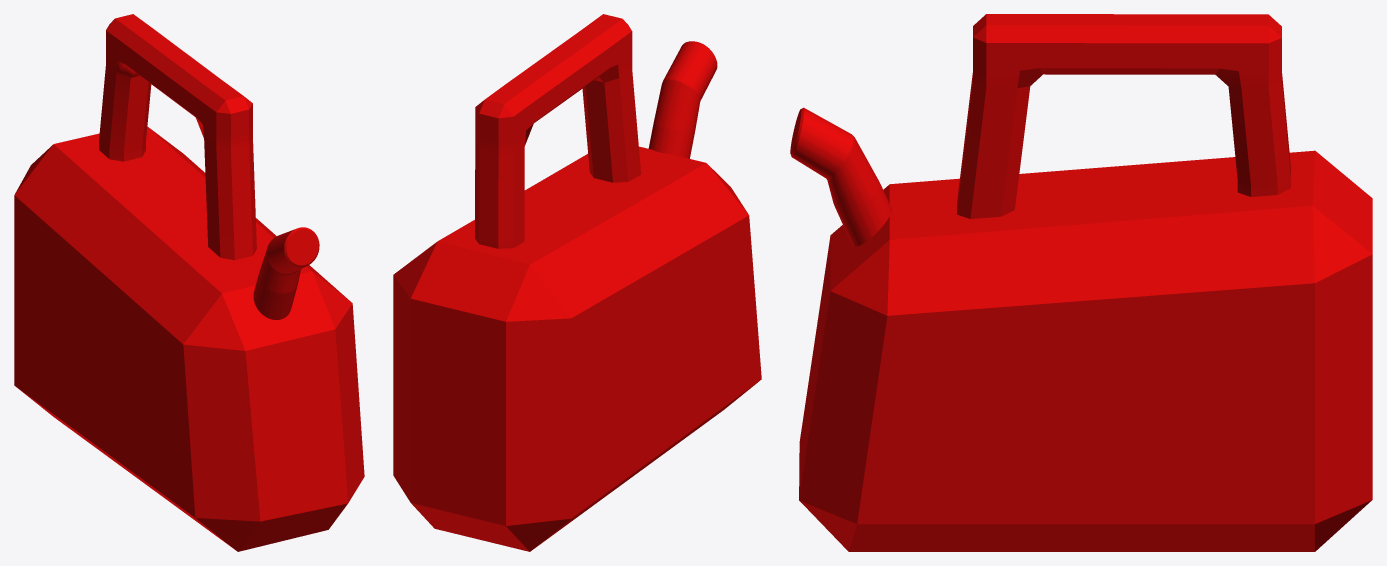
File: can.fbx
3 views of the same model, side by side, from view 1: azimuth 30°, elevation 25°; view 2: azimuth 150°, elevation 25°; view 3: azimuth 270°, elevation 25° (orthographic). The views are drawn at different scales.
Parts seen in each view (by area): view 1: pCube1, pCube2, pCylinder1; view 2: pCube1, pCube2, pCylinder1; view 3: pCube1, pCube2, pCylinder1.
Boxes of the visible parts, bbox=[...] form: pCube1: bbox=[14, 126, 364, 551]; pCube2: bbox=[99, 14, 256, 260]; pCylinder1: bbox=[253, 227, 319, 319]; pCube1: bbox=[393, 146, 761, 551]; pCube2: bbox=[475, 14, 641, 248]; pCylinder1: bbox=[648, 41, 717, 158]; pCube1: bbox=[799, 150, 1372, 551]; pCube2: bbox=[957, 14, 1290, 218]; pCylinder1: bbox=[790, 107, 892, 246].
Size of the model in its own units: 1 by 2.27 by 2.35.
